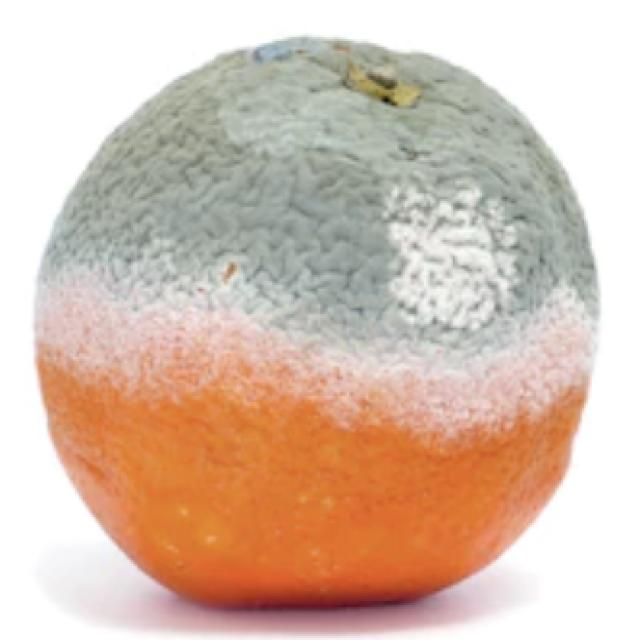orange: (35, 38, 599, 606)
